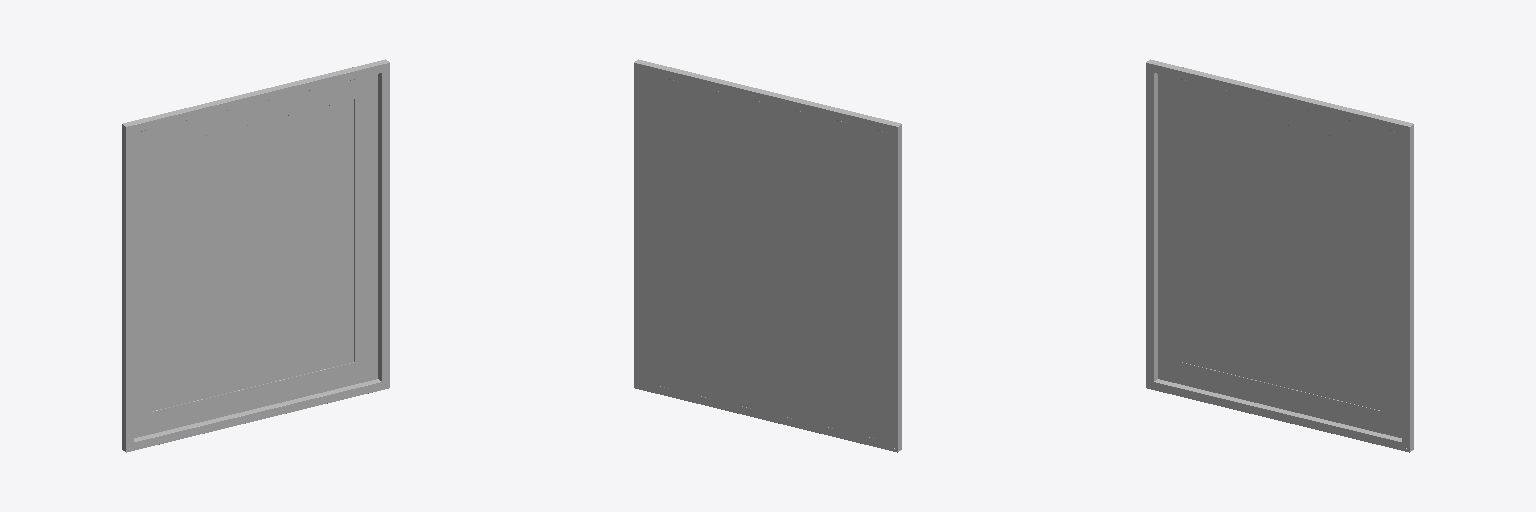
The model's file is lily.obj.
3 views of the same model, side by side, from view 1: azimuth 30°, elevation 25°; view 2: azimuth 150°, elevation 25°; view 3: azimuth 330°, elevation 25° (orthographic).
Visible parts, largest first — view 1: DainTasker_Picture, DainTasker_Frame; view 2: DainTasker_Picture, DainTasker_Frame; view 3: DainTasker_Picture, DainTasker_Frame.
Part boxes in pixels (x1,y1,x2,y2): DainTasker_Picture: (134,74,377,437); DainTasker_Frame: (122,59,389,452); DainTasker_Picture: (642,73,889,441); DainTasker_Frame: (634,59,901,452); DainTasker_Picture: (1158,74,1401,437); DainTasker_Frame: (1146,59,1413,452).
Bounding box in the file's own units: 594 × 700 × 17.22.